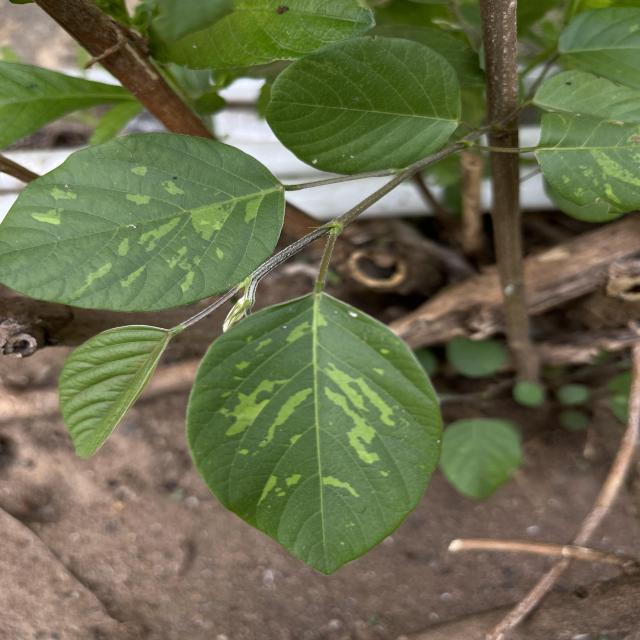Desmodium gangeticum: (181, 290, 447, 576), (0, 129, 290, 317)
